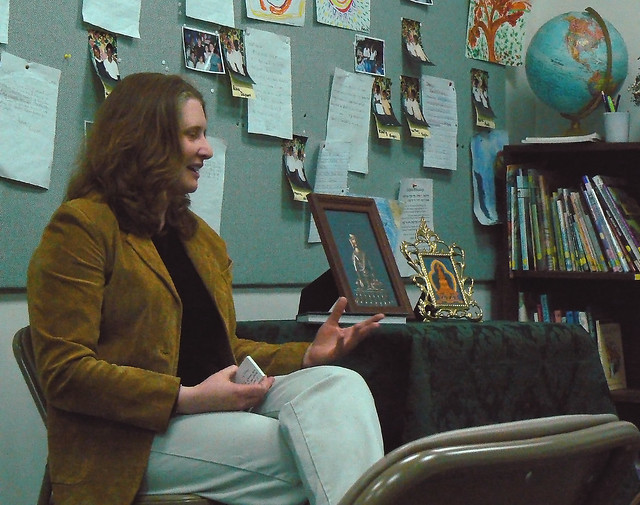Book (group): (505, 165, 634, 271), (510, 289, 627, 390)
Clothing: (33, 193, 311, 484)
Human arm: (30, 205, 276, 416), (231, 296, 382, 381)
Human hair: (84, 74, 209, 231)
Human hand: (174, 362, 276, 419), (303, 300, 382, 371)
Human leg: (152, 402, 309, 505), (267, 361, 381, 499)
Shelf: (499, 144, 638, 275), (500, 275, 639, 395)
Woman: (29, 66, 378, 490)
